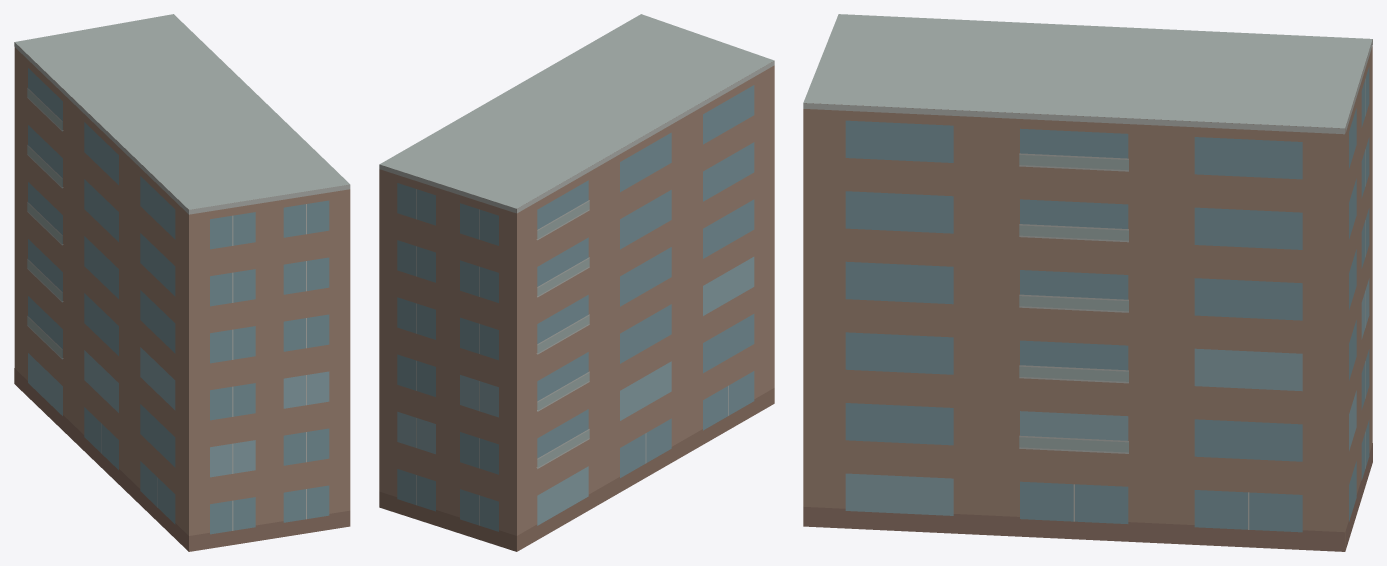
File: survey-upis-32872114.glb
3 renders of one model, left to right at view 1: azimuth 30°, elevation 25°; view 2: azimuth 150°, elevation 25°; view 3: azimuth 270°, elevation 25°, orthographic. The views are drawn at different scales.
Parts seen in each view (by area): view 1: survey-upis-32872114.tmp; view 2: survey-upis-32872114.tmp; view 3: survey-upis-32872114.tmp.
Part boxes in pixels (x1,y1,x2,y2): survey-upis-32872114.tmp: (14,14,350,551); survey-upis-32872114.tmp: (379,14,774,551); survey-upis-32872114.tmp: (803,14,1372,551).
Size of the model in its own units: 10.2 by 17.6 by 21.46.
